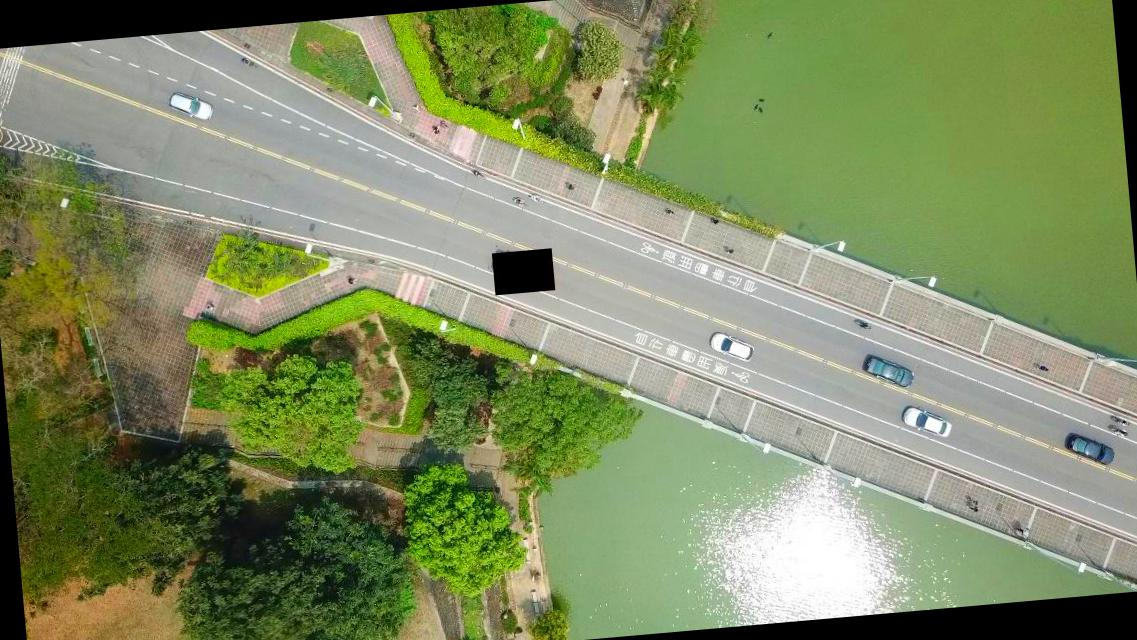vehicle: (860, 352, 914, 392), (900, 403, 954, 440), (1065, 430, 1116, 469), (708, 327, 756, 366), (167, 89, 213, 123)
